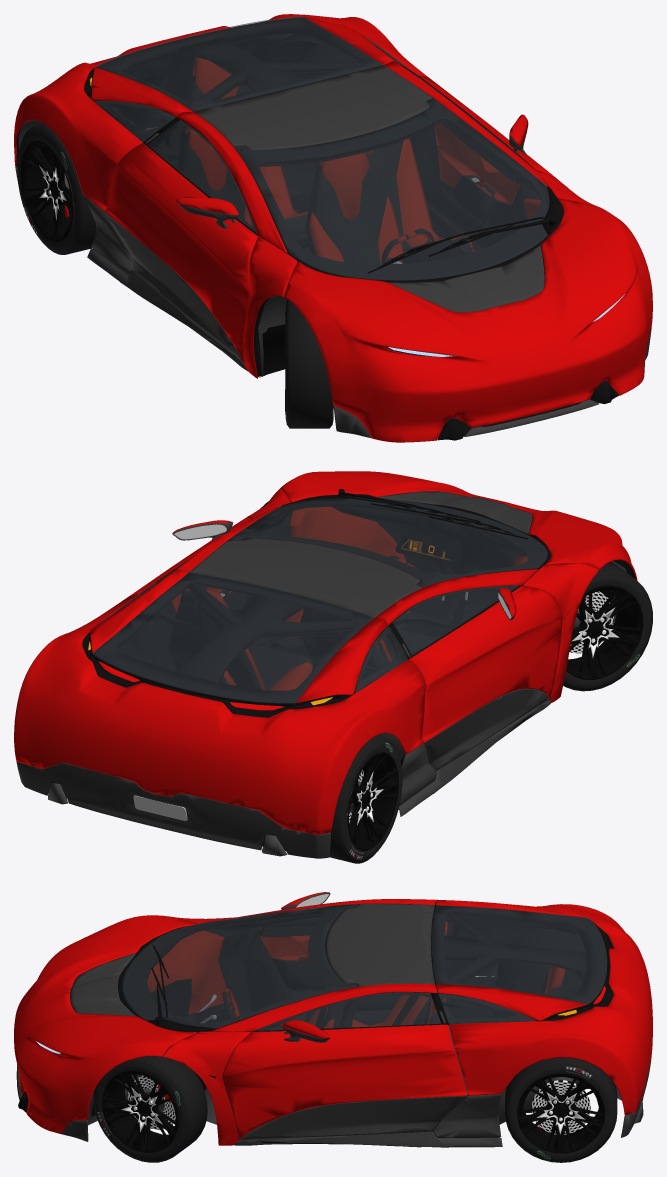
File: car.glb
3 renders of one model, top to bottom at view 1: azimuth 30°, elevation 25°; view 2: azimuth 150°, elevation 25°; view 3: azimuth 270°, elevation 25°, orthographic. The views are drawn at different scales.
Parts seen in each view (by area): view 1: BodyHood, BodyWindshield, BodyRearwindow, BodyDoorRColor1, BodyRearPanelsColor1, BodyRoofPanel, BodyWindshieldGasket, InteriorSeatsColor1, InteriorSeatsColor2, BodyPillars, InteriorPillar, InteriorRearHatch (+21 smaller); view 2: BodyRearPanelsColor1, BodyRearwindow, BodyWindshield, BodyDoorRColor1, BodyPanelsColor2, BodyRoofPanel, BodyHood, InteriorRearHatch, BodyPillars, InteriorPillar, InteriorDashMid, BodyWindshieldGasket (+23 smaller); view 3: BodyWindshield, BodyRearPanelsColor1, BodyDoorLColor1, BodyHood, BodyRearwindow, BodyRoofPanel, BodyPillars, BodyWindshieldGasket, BodyDoorLColor2, BodyPanelsColor2, WheelFrontL, InteriorRearHatch (+25 smaller).
Part boxes in pixels (left/top/right/bottom): BodyHood: left=283, top=198, right=652, bottom=442; BodyWindshield: left=234, top=98, right=549, bottom=280; BodyRearwindow: left=94, top=16, right=382, bottom=111; BodyDoorRColor1: left=104, top=143, right=257, bottom=363; BodyRearPanelsColor1: left=14, top=14, right=428, bottom=210; BodyRoofPanel: left=193, top=65, right=432, bottom=150; BodyWindshieldGasket: left=234, top=99, right=563, bottom=282; InteriorSeatsColor1: left=186, top=57, right=474, bottom=264; InteriorSeatsColor2: left=180, top=78, right=471, bottom=264; BodyPillars: left=176, top=61, right=599, bottom=378; InteriorPillar: left=158, top=37, right=434, bottom=167; InteriorRearHatch: left=94, top=17, right=383, bottom=117; BodyRearPanelsColor1: left=14, top=569, right=425, bottom=834; BodyRearwindow: left=92, top=572, right=373, bottom=703; BodyWindshield: left=229, top=497, right=547, bottom=587; BodyDoorRColor1: left=409, top=585, right=562, bottom=742; BodyPanelsColor2: left=16, top=700, right=550, bottom=858; BodyRoofPanel: left=189, top=537, right=422, bottom=617; BodyHood: left=279, top=471, right=637, bottom=580; InteriorRearHatch: left=93, top=573, right=386, bottom=707; BodyPillars: left=175, top=489, right=599, bottom=702; InteriorPillar: left=174, top=574, right=417, bottom=682; InteriorDashMid: left=332, top=502, right=528, bottom=622; BodyWindshieldGasket: left=230, top=497, right=550, bottom=587; BodyWindshield: left=122, top=904, right=358, bottom=1028; BodyRearPanelsColor1: left=436, top=899, right=652, bottom=1115; BodyDoorLColor1: left=222, top=1024, right=467, bottom=1140; BodyHood: left=14, top=915, right=196, bottom=1133; BodyRearwindow: left=431, top=905, right=607, bottom=1004; BodyRoofPanel: left=326, top=903, right=434, bottom=986; BodyPillars: left=163, top=899, right=437, bottom=1145; BodyWindshieldGasket: left=118, top=905, right=357, bottom=1032; BodyDoorLColor2: left=240, top=1096, right=467, bottom=1140; BodyPanelsColor2: left=16, top=1045, right=652, bottom=1147; WheelFrontL: left=93, top=1054, right=207, bottom=1162; InteriorRearHatch: left=432, top=905, right=606, bottom=1020.
Bounding box in the file's own units: 2.54 × 1.15 × 4.36.
23 materials, 3 textured.
